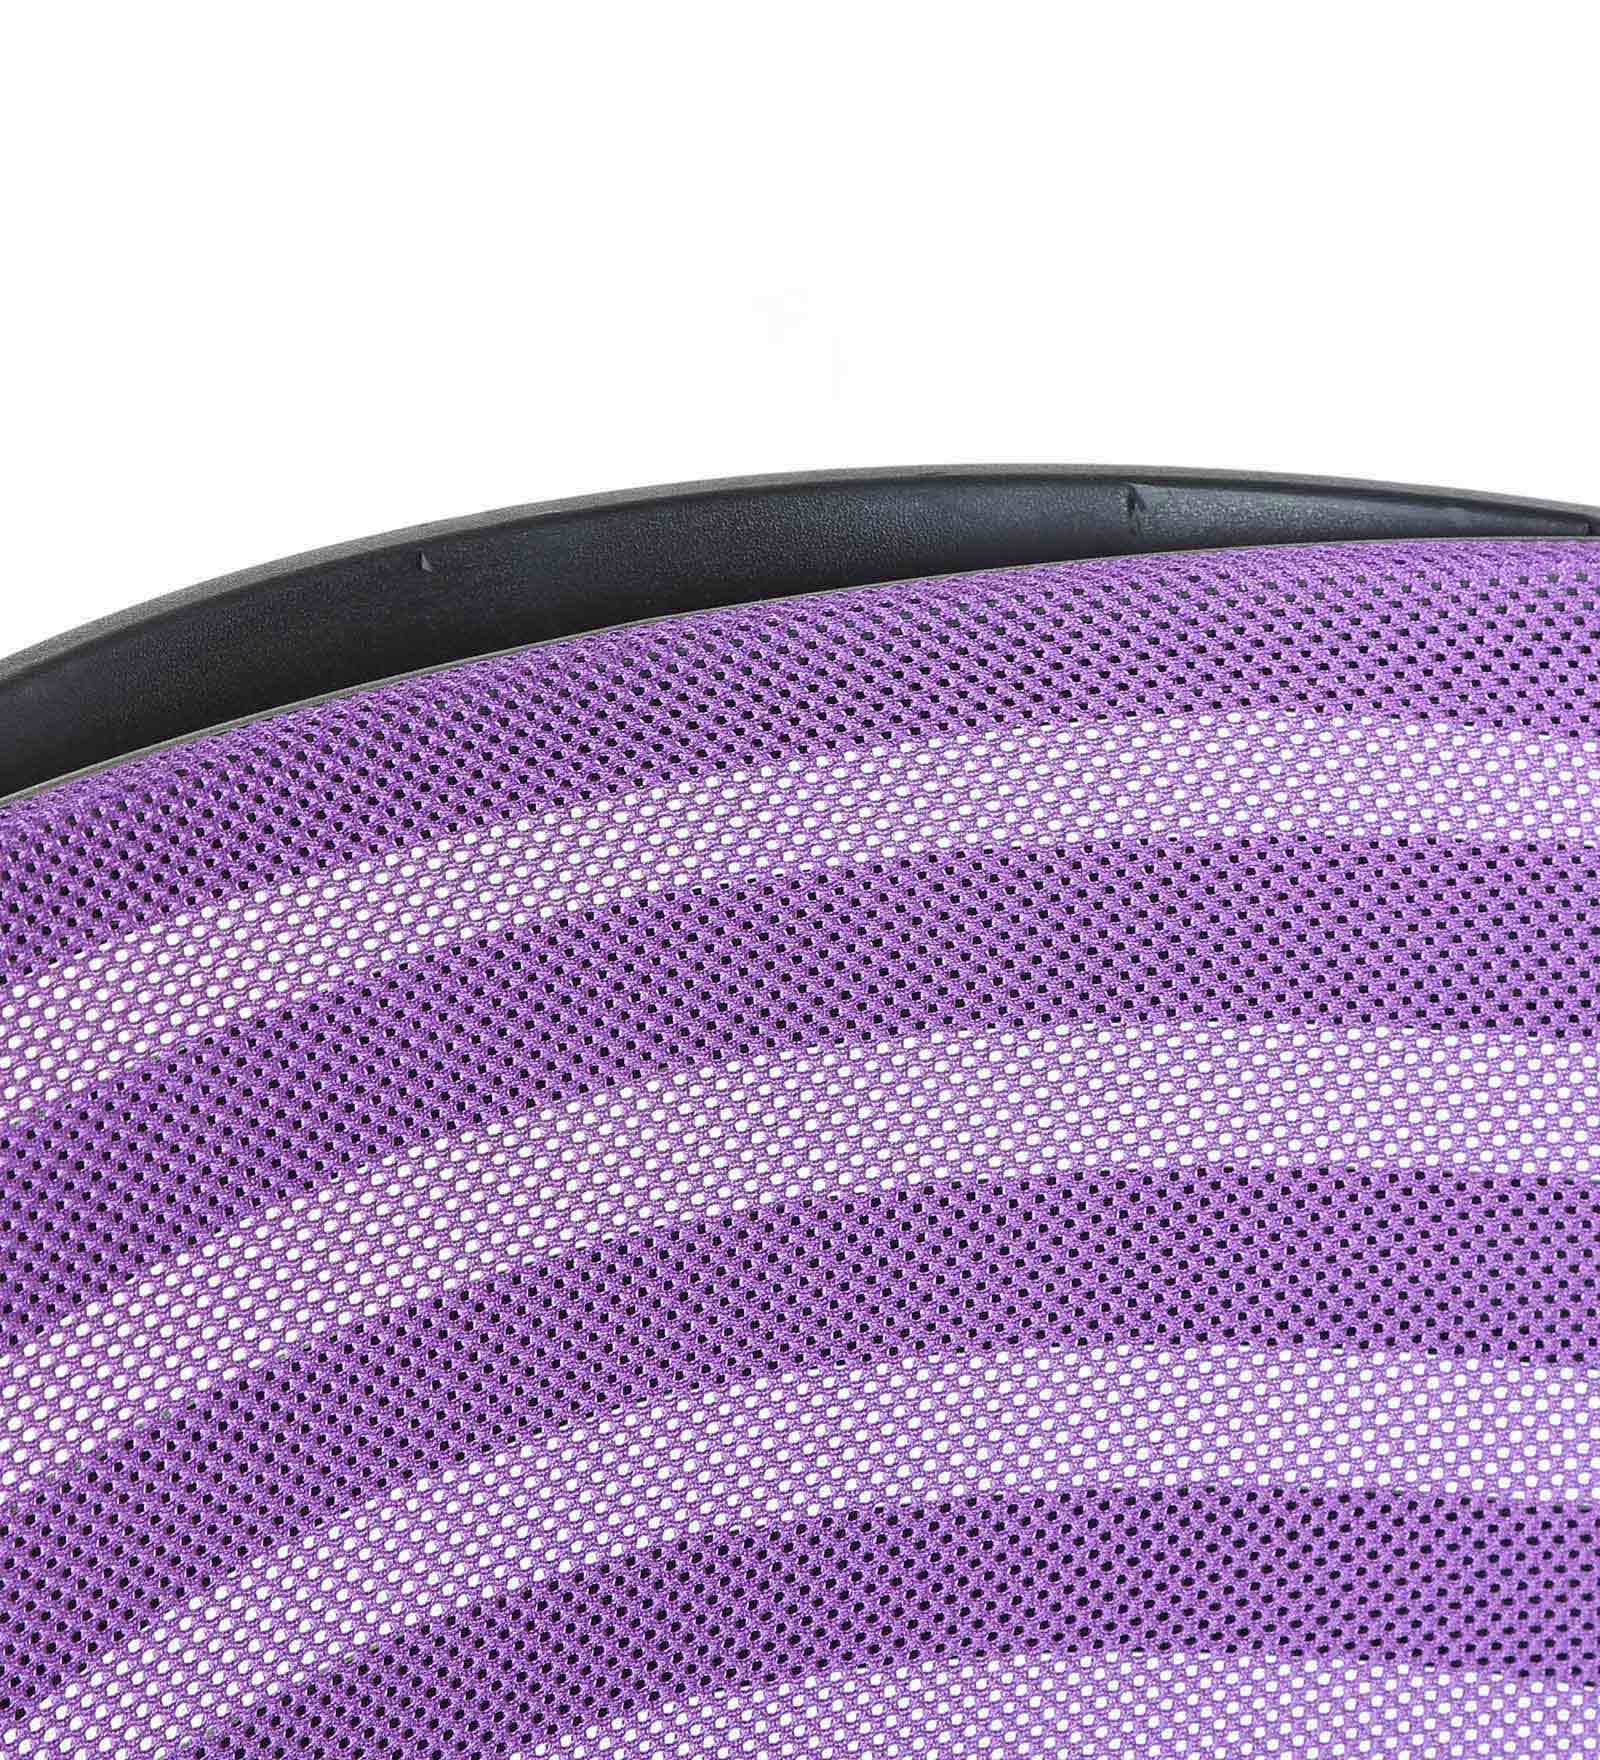Trendy Ergonomic Chair in Purple Colour by Parin: (20, 158, 1565, 1760)
